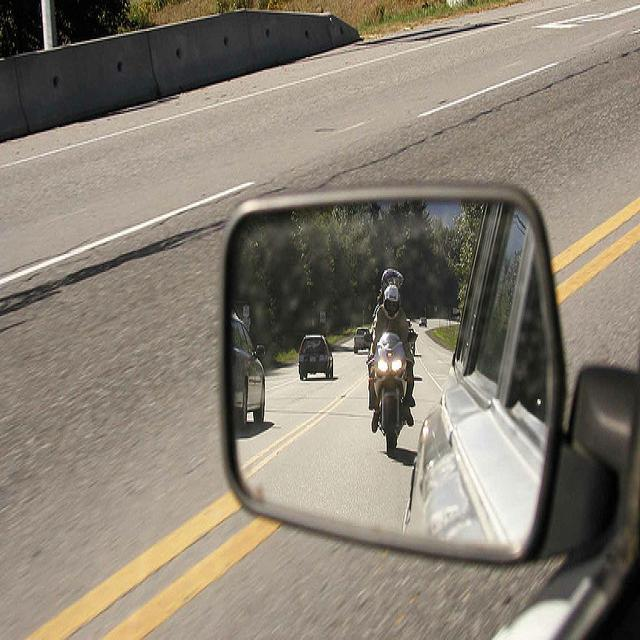motor: (367, 333, 418, 458)
